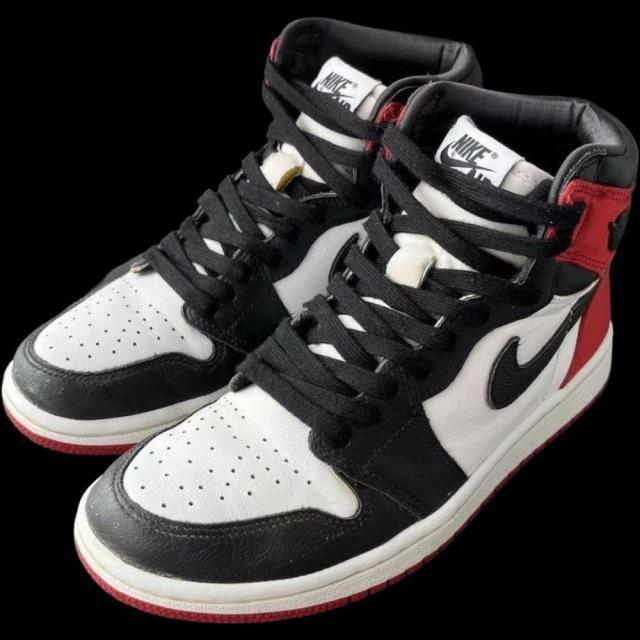nike original jordan 1: (69, 85, 640, 629), (5, 18, 488, 454)
